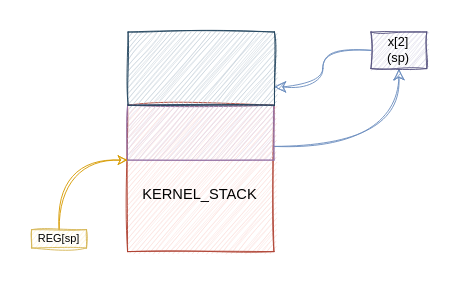
The diagram is 459 pixels wide and 284 high, and some of its shapes have lost their labels. Here are the shapes that lost their labels. From the top down, the box of each, then its label:
(127, 31, 274, 105): USER_STACK
(126, 104, 274, 160): app_context
